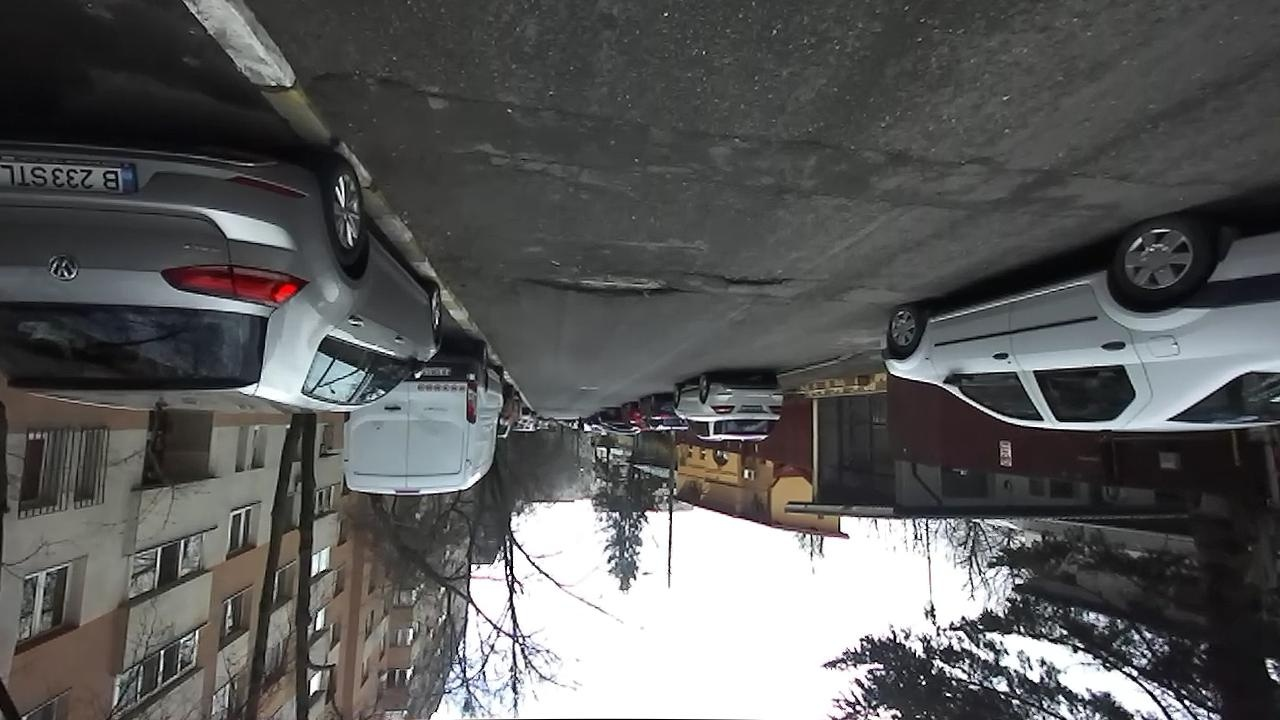pothole: (512, 261, 692, 299), (702, 267, 795, 292)
